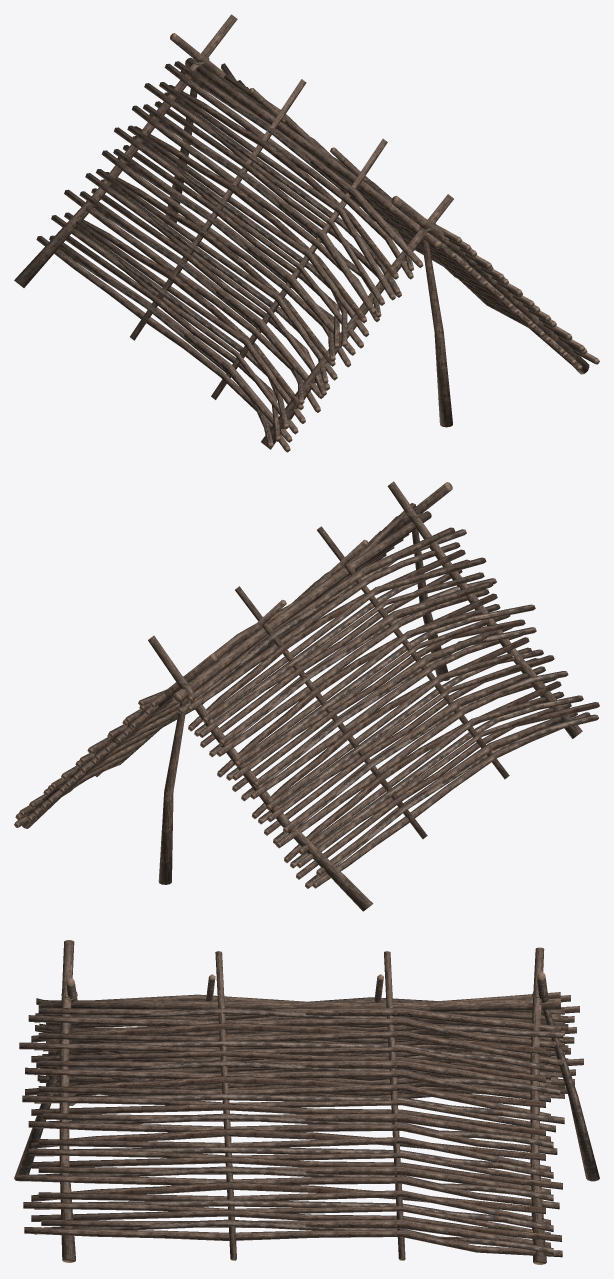
File: hut3.fbx
3 renders of one model, top to bottom at view 1: azimuth 30°, elevation 25°; view 2: azimuth 150°, elevation 25°; view 3: azimuth 270°, elevation 25°, orthographic. The views are drawn at different scales.
Parts seen in each view (by area): view 1: Cylinder; view 2: Cylinder; view 3: Cylinder.
Part boxes in pixels (x1=…): Cylinder: x1=14, y1=14, x2=599, y2=452; Cylinder: x1=14, y1=481, x2=599, y2=911; Cylinder: x1=14, y1=940, x2=599, y2=1264.
Size of the model in its own units: 125 by 76.18 by 176.
